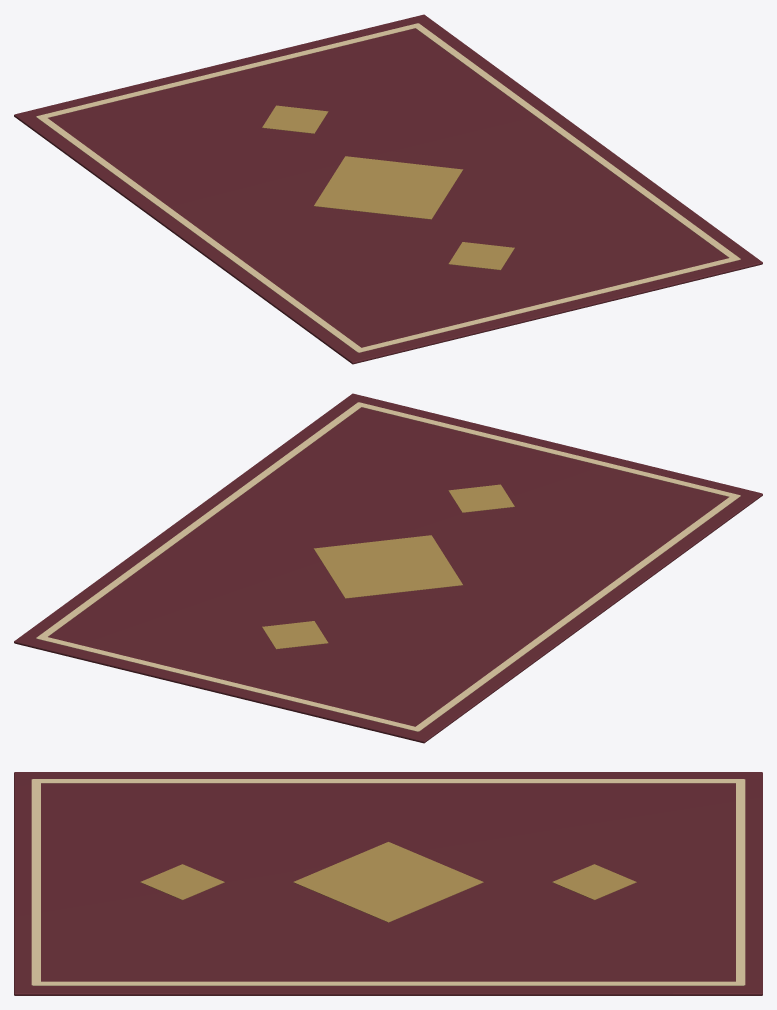
File: rpg-mansion-rug-01.glb
3 renders of one model, top to bottom at view 1: azimuth 30°, elevation 25°; view 2: azimuth 150°, elevation 25°; view 3: azimuth 270°, elevation 25°, orthographic. The views are drawn at different scales.
Parts seen in each view (by area): view 1: rpg-mansion-rug-01; view 2: rpg-mansion-rug-01; view 3: rpg-mansion-rug-01.
Part boxes in pixels (x1,y1,x2,y2): rpg-mansion-rug-01: (14,14,762,364); rpg-mansion-rug-01: (14,393,762,743); rpg-mansion-rug-01: (14,772,762,995).
Bounding box in the file's own units: 1.4 × 0.01 × 2.
